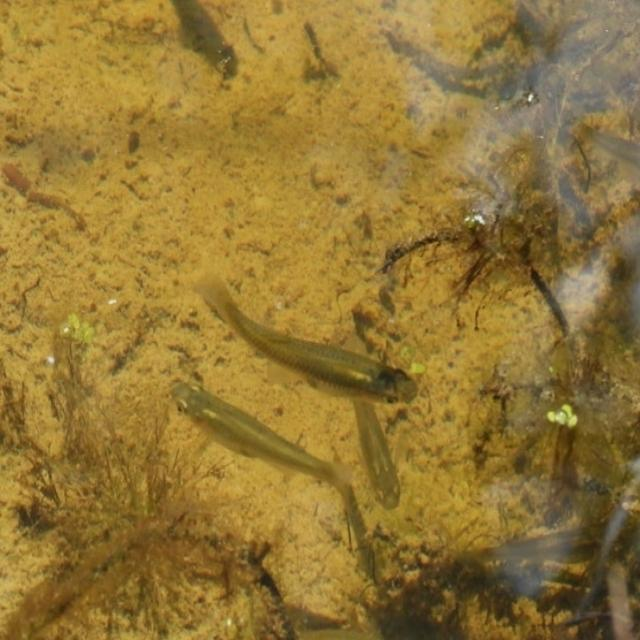Sivrisinek Baligi: (200, 268, 426, 410), (164, 371, 366, 516), (347, 395, 418, 507), (573, 106, 639, 207)
